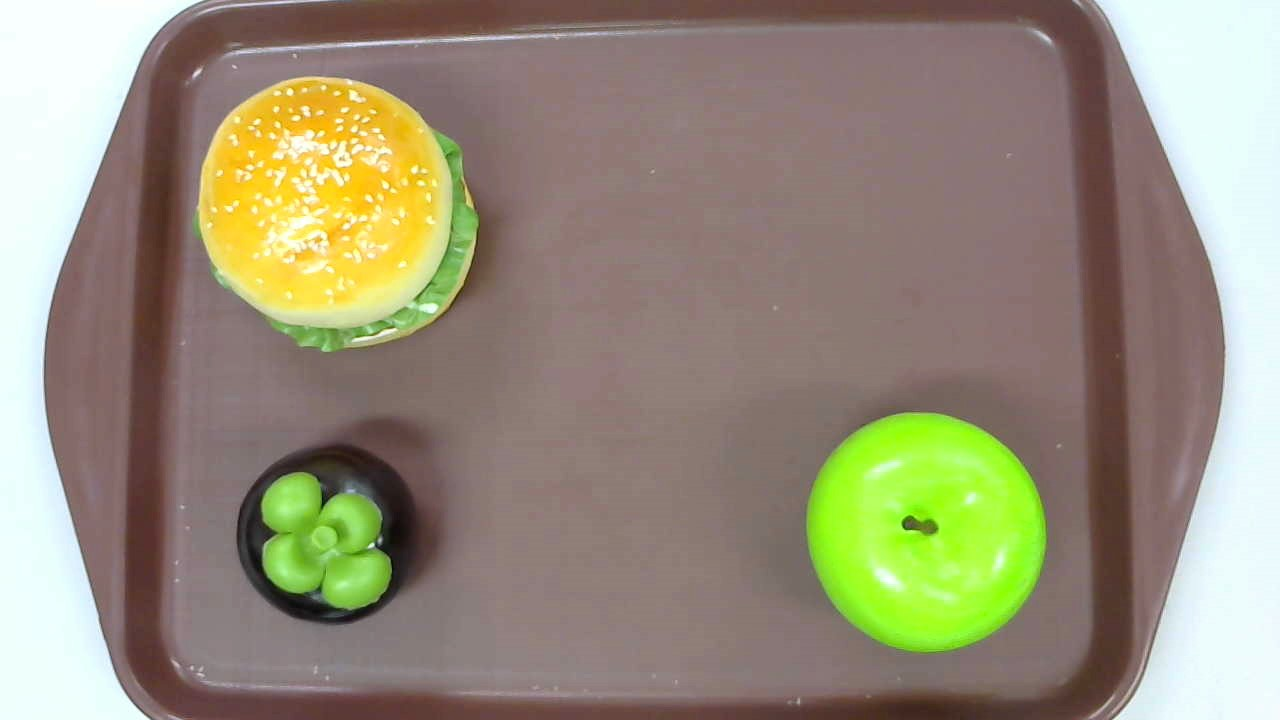green apple: (807, 410, 1047, 653)
hamburger: (191, 74, 480, 356)
mangosteen: (236, 441, 421, 626)
